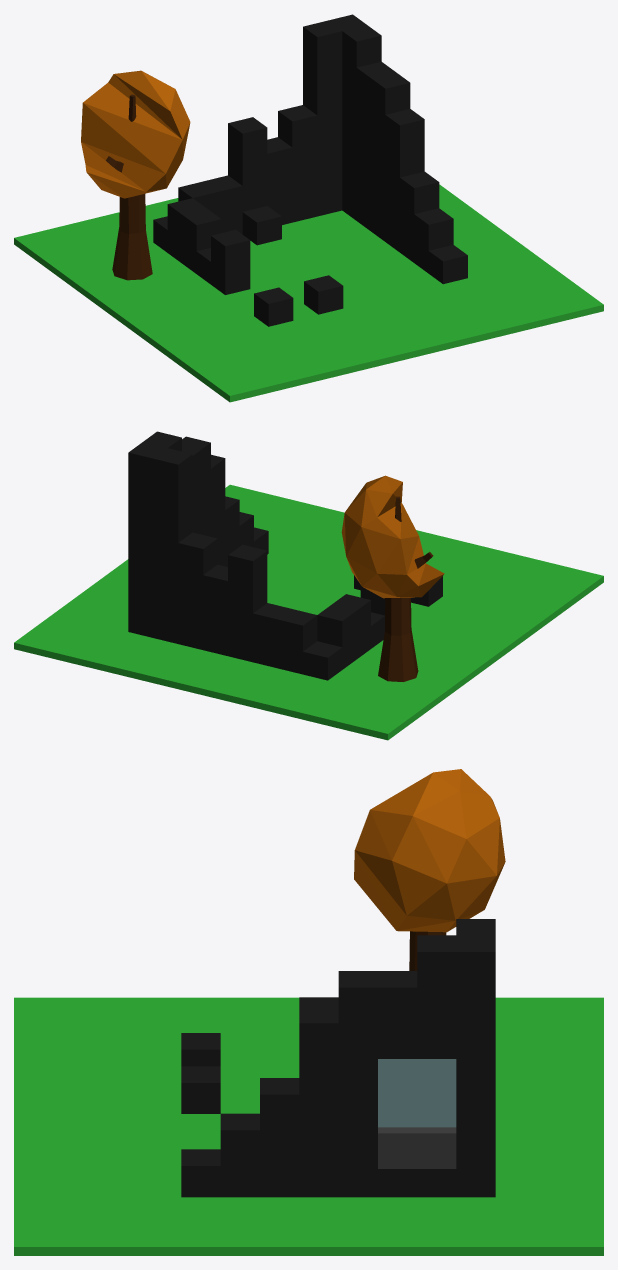
The model's file is ruins.FBX.
3 renders of one model, top to bottom at view 1: azimuth 30°, elevation 25°; view 2: azimuth 150°, elevation 25°; view 3: azimuth 270°, elevation 25°, orthographic. The views are drawn at different scales.
Visible parts, largest first — view 1: Soil, Ruin, Leaf, Tree; view 2: Soil, Ruin, Leaf, Tree; view 3: Soil, Ruin, Leaf.
Boxes of the visible parts, bbox=[...] form: Soil: bbox=[14, 184, 603, 402]; Ruin: bbox=[153, 14, 467, 326]; Leaf: bbox=[81, 70, 190, 198]; Tree: bbox=[106, 94, 152, 280]; Soil: bbox=[14, 484, 603, 740]; Ruin: bbox=[128, 431, 442, 680]; Leaf: bbox=[341, 475, 444, 598]; Tree: bbox=[378, 496, 433, 681]; Soil: bbox=[14, 997, 603, 1255]; Ruin: bbox=[181, 919, 495, 1197]; Leaf: bbox=[354, 769, 505, 932].
Bounding box in the file's own units: 236 × 123 × 236.
